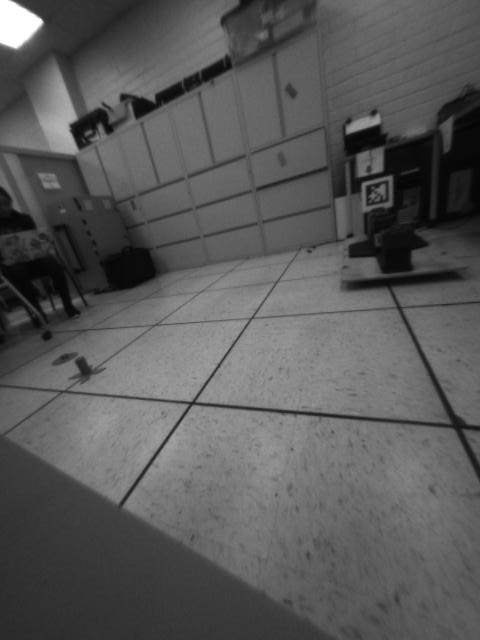X: (68, 358, 107, 384)
